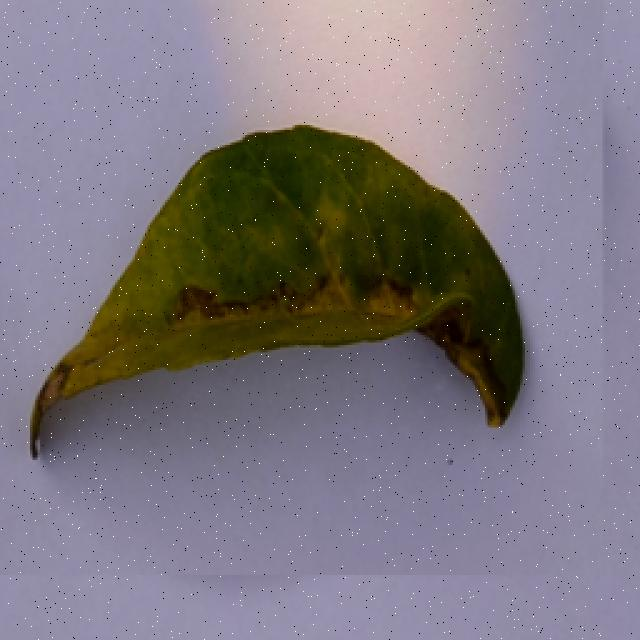greening: (18, 115, 534, 501)
